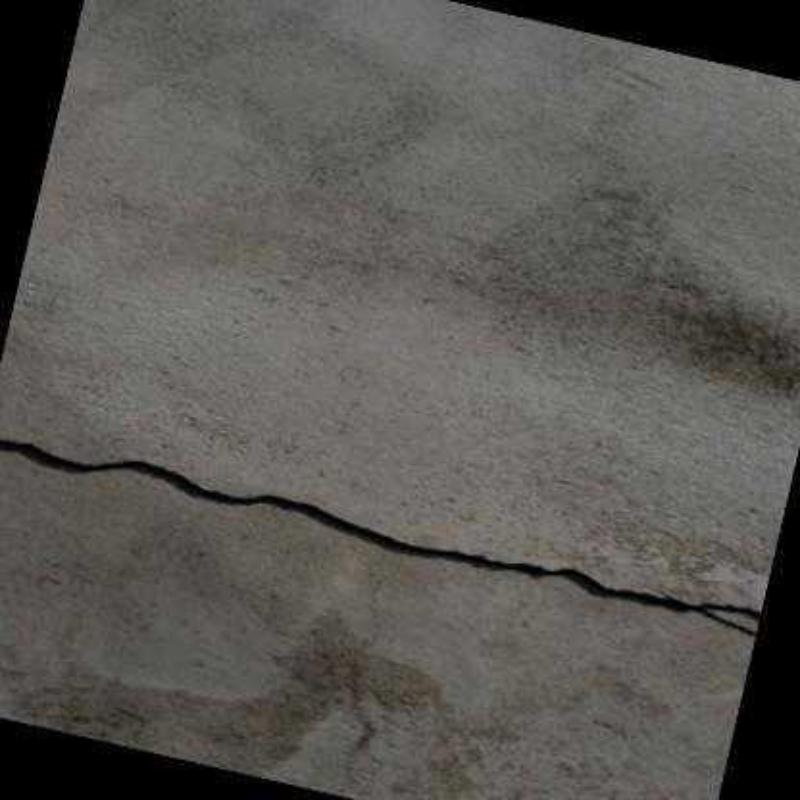crack: (0, 434, 762, 640)
